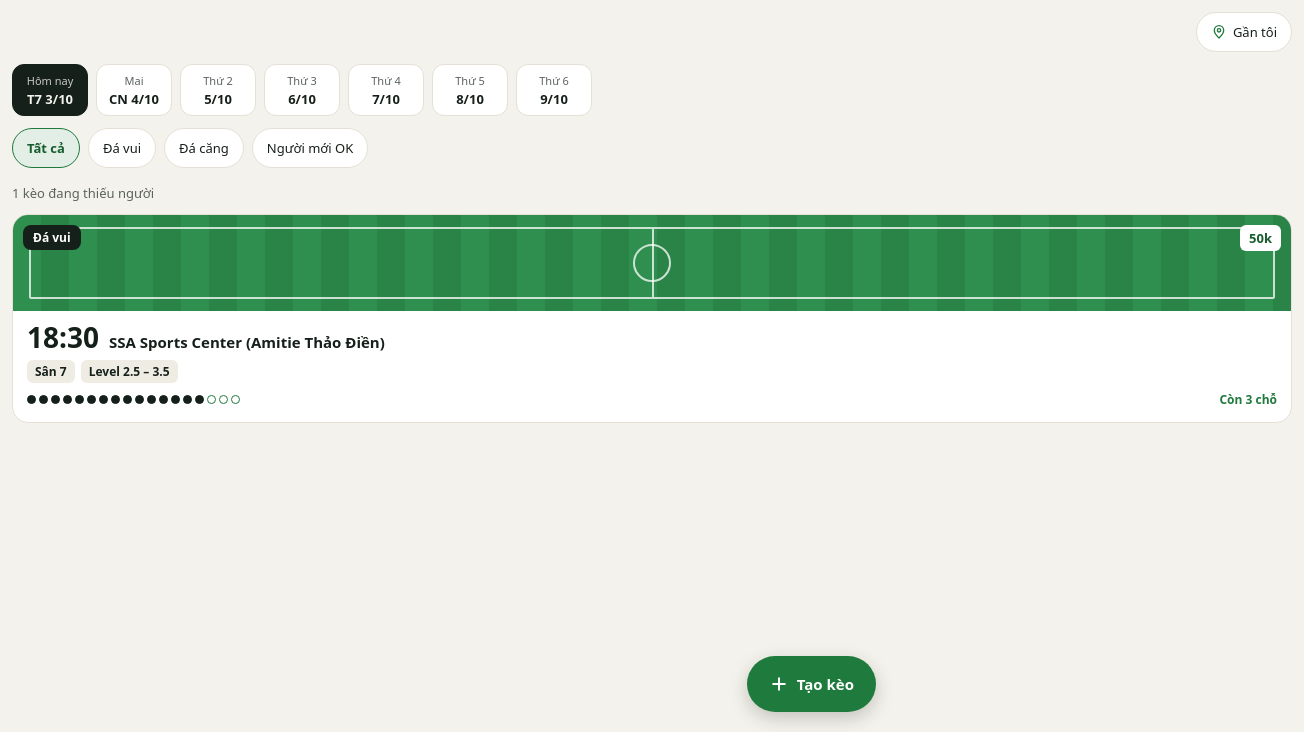
Test: MatchList › says when the position is not available and keeps the list
Expected: the link "SSA Sports Center" is shown, top-left (12, 214), bottom-right (1292, 423)
Click the button "Gần tôi" at [1244, 32], box top-left (1196, 12), bottom-right (1292, 52)
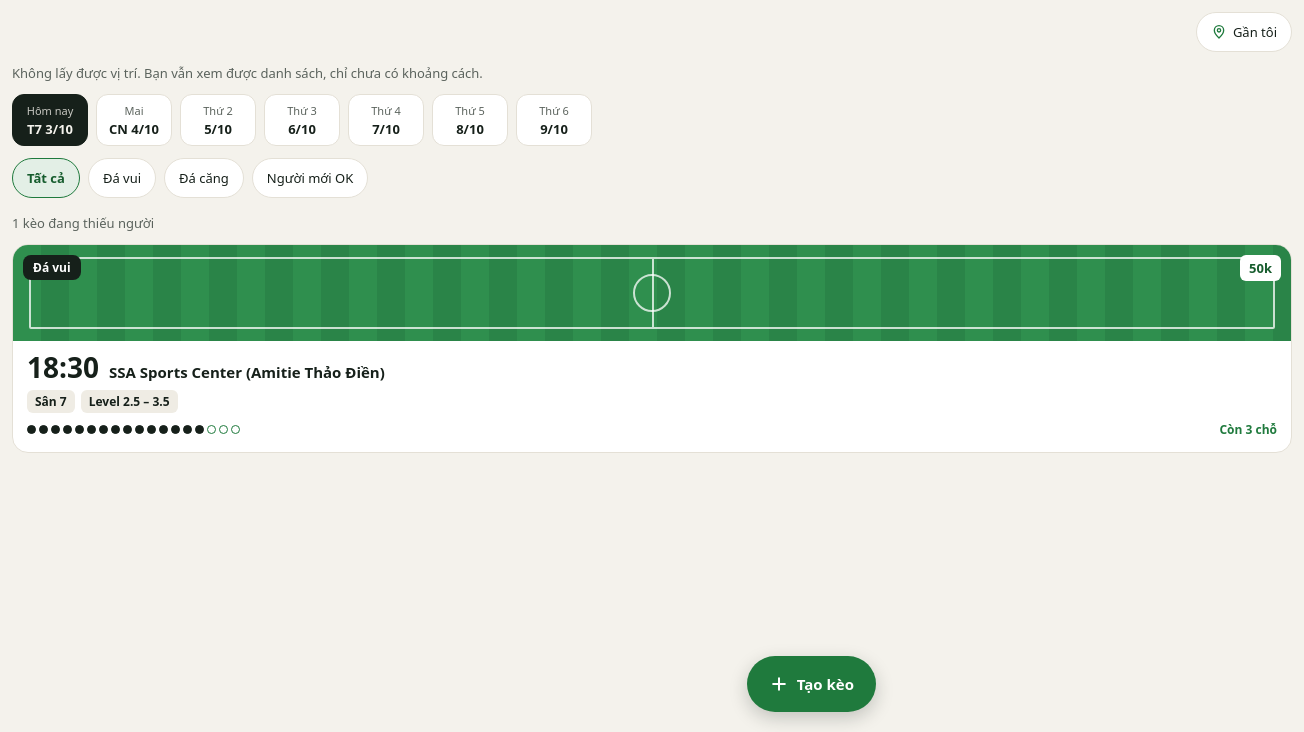
Expected: the link "SSA Sports Center" is shown, top-left (12, 244), bottom-right (1292, 453)
Now the text "Không lấy được vị trí. Bạn vẫn xem được danh sách, chỉ chưa có khoảng cách." is shown, box top-left (12, 64), bottom-right (483, 82)
